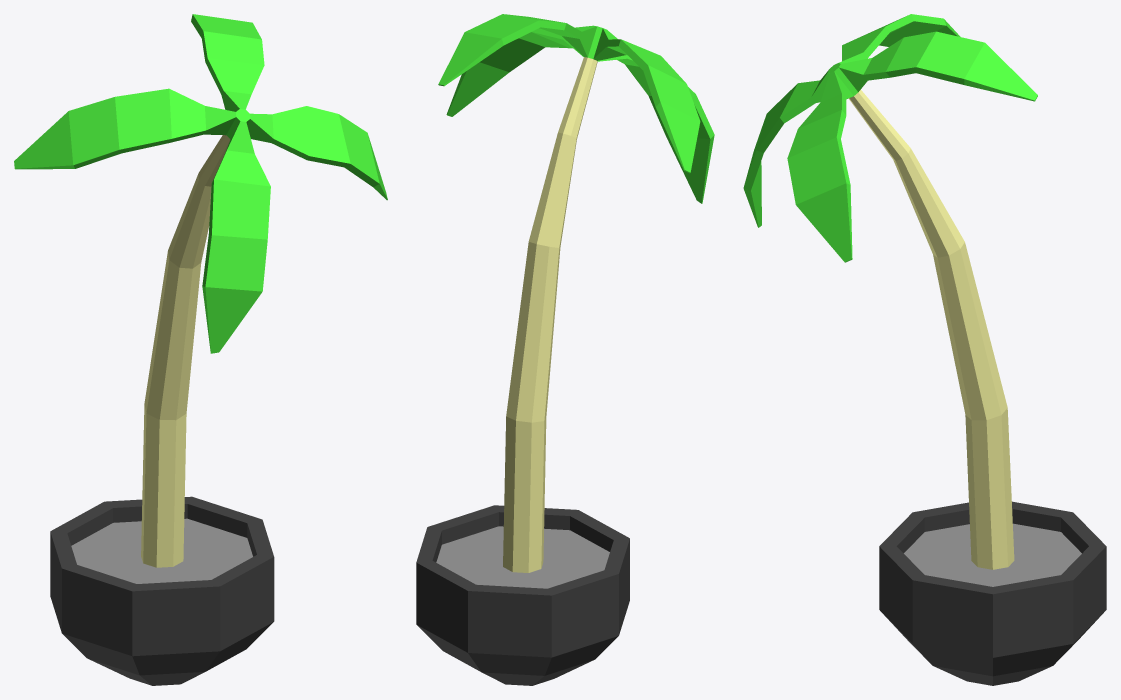
Rendered from Palm.fbx.
3 views of the same model, side by side, from view 1: azimuth 30°, elevation 25°; view 2: azimuth 150°, elevation 25°; view 3: azimuth 270°, elevation 25° (orthographic). The views are drawn at different scales.
Parts seen in each view (by area): view 1: Palm; view 2: Palm; view 3: Palm.
Boxes of the visible parts, x1,y1,x2,y2 form: Palm: (14, 14, 387, 685); Palm: (416, 14, 714, 685); Palm: (743, 14, 1106, 685).
Size of the model in its own units: 416 by 834 by 426.
